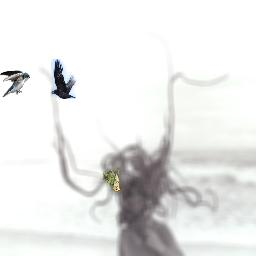Crow: (51, 59, 76, 99)
Sparrow: (103, 168, 121, 192)
Swallow: (0, 70, 30, 97)
